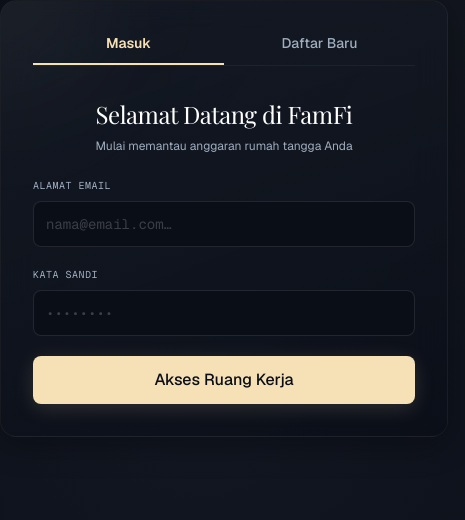
LoginForm Presentation Component › displays error message on failed login
Step 1. Type "test@test.com" into the field labelled "Alamat Email" → (224,224), box [33,201,415,247]
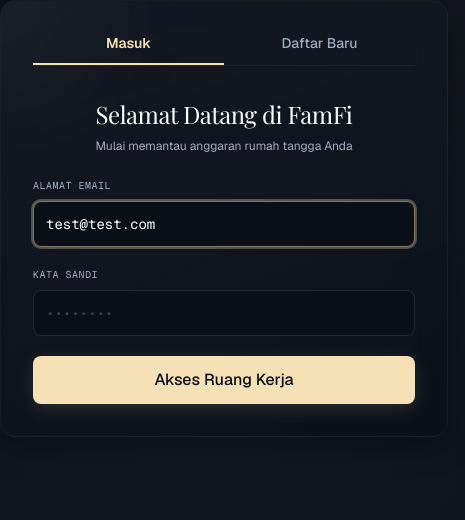
Step 2. Type "wrongpass" into the password field labelled "Kata Sandi" → (224,313), box [33,290,415,336]
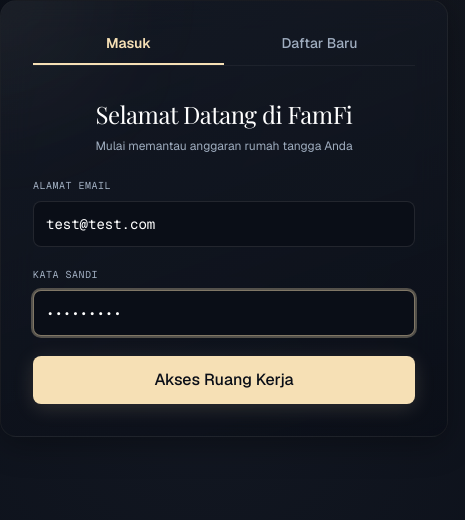
Step 3. Click the button "Akses Ruang Kerja" → (224,380), box [33,356,415,404]
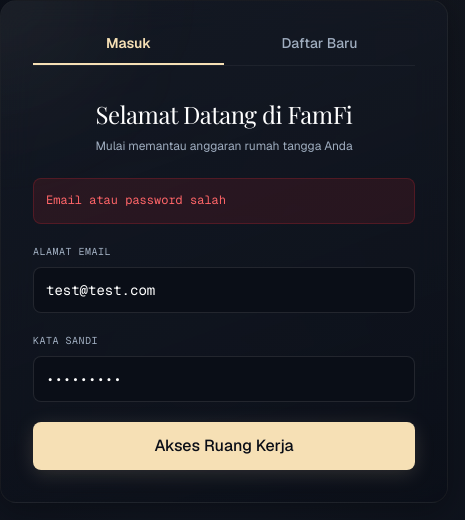
Check: the text "Email atau password salah" is shown, box [33,178,415,224]
